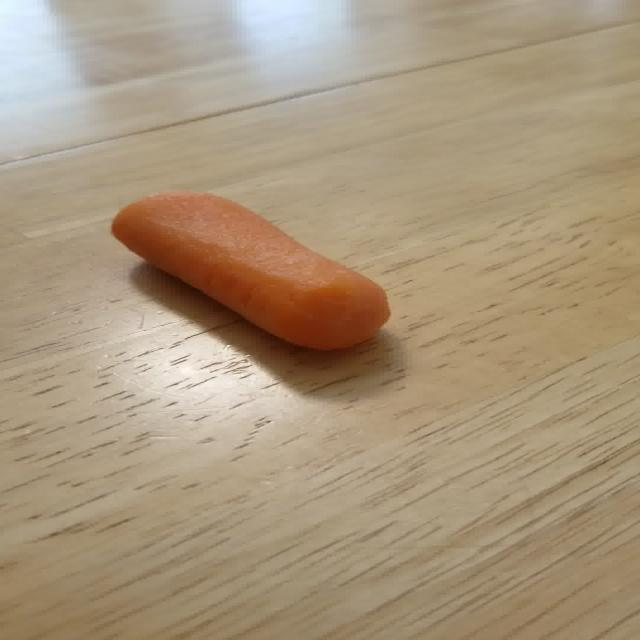carrot: (111, 191, 389, 350)
